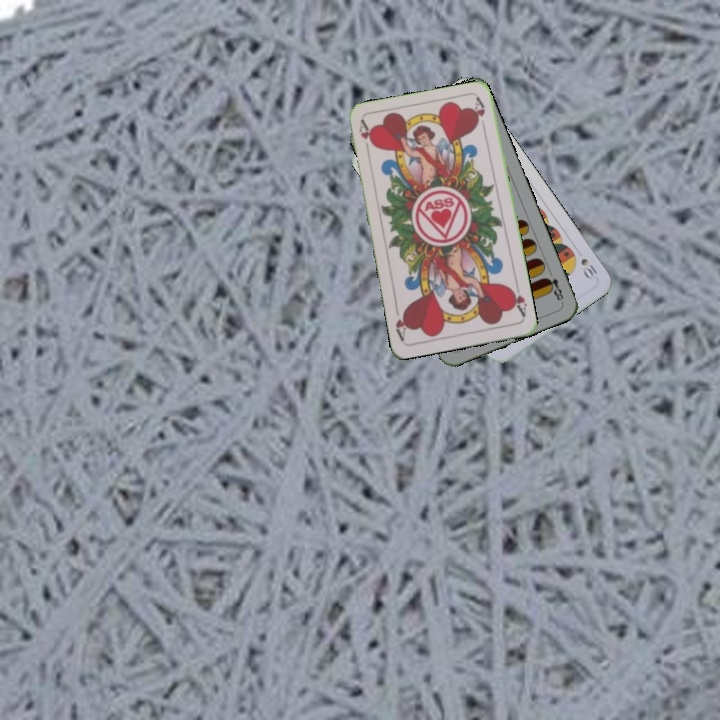E8: (541, 273, 566, 305)
HA: (506, 280, 529, 320), (355, 117, 377, 157)
S10: (577, 254, 600, 283)
